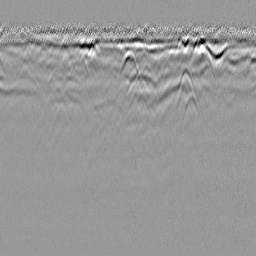cavity: (119, 49, 138, 76)
